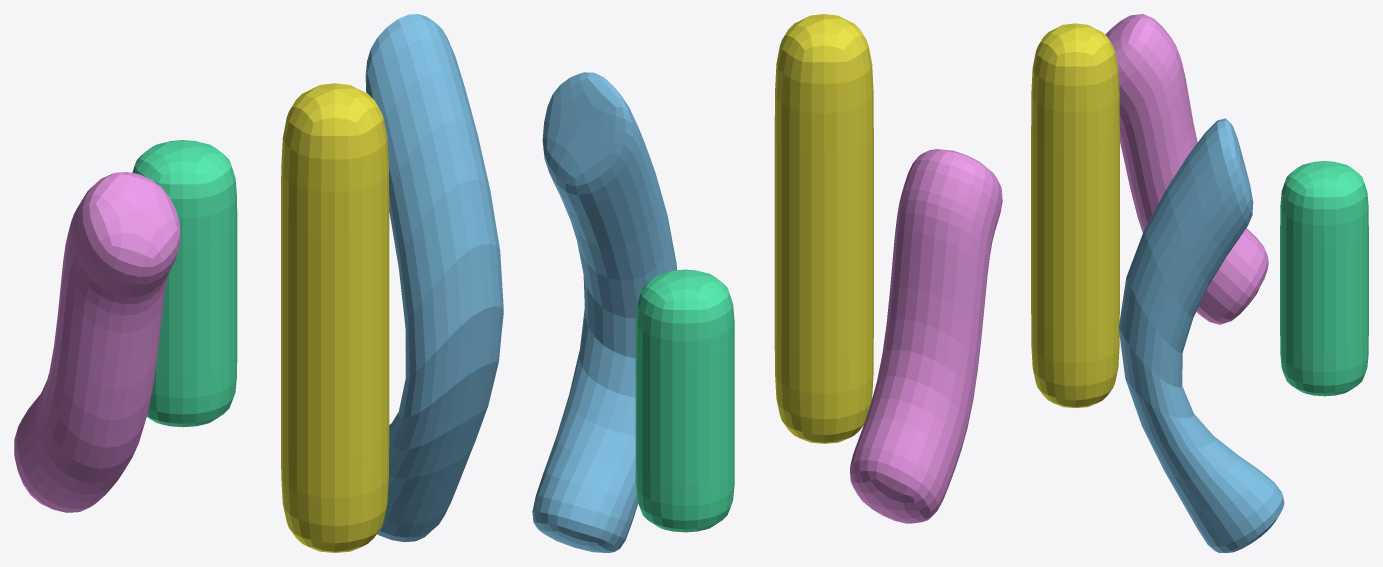
Rendered from granulado.fbx.
3 views of the same model, side by side, from view 1: azimuth 30°, elevation 25°; view 2: azimuth 150°, elevation 25°; view 3: azimuth 270°, elevation 25° (orthographic). The views are drawn at different scales.
Parts seen in each view (by area): view 1: Cylinder.003, Cylinder.001, Cylinder.002, Cylinder; view 2: Cylinder.003, Cylinder.001, Cylinder.002, Cylinder; view 3: Cylinder.003, Cylinder.001, Cylinder, Cylinder.002.
Part boxes in pixels (x1=…): Cylinder.003: x1=281, y1=83, x2=389, y2=552; Cylinder.001: x1=365, y1=14, x2=503, y2=542; Cylinder.002: x1=14, y1=172, x2=180, y2=512; Cylinder: x1=132, y1=140, x2=237, y2=427; Cylinder.003: x1=774, y1=14, x2=873, y2=443; Cylinder.001: x1=532, y1=72, x2=676, y2=552; Cylinder.002: x1=850, y1=149, x2=1002, y2=523; Cylinder: x1=635, y1=269, x2=734, y2=532; Cylinder.003: x1=1031, y1=23, x2=1119, y2=407; Cylinder.001: x1=1118, y1=118, x2=1284, y2=552; Cylinder: x1=1280, y1=161, x2=1368, y2=396; Cylinder.002: x1=1105, y1=14, x2=1268, y2=324.
Bounding box in the file's own units: 461 × 566 × 381.
